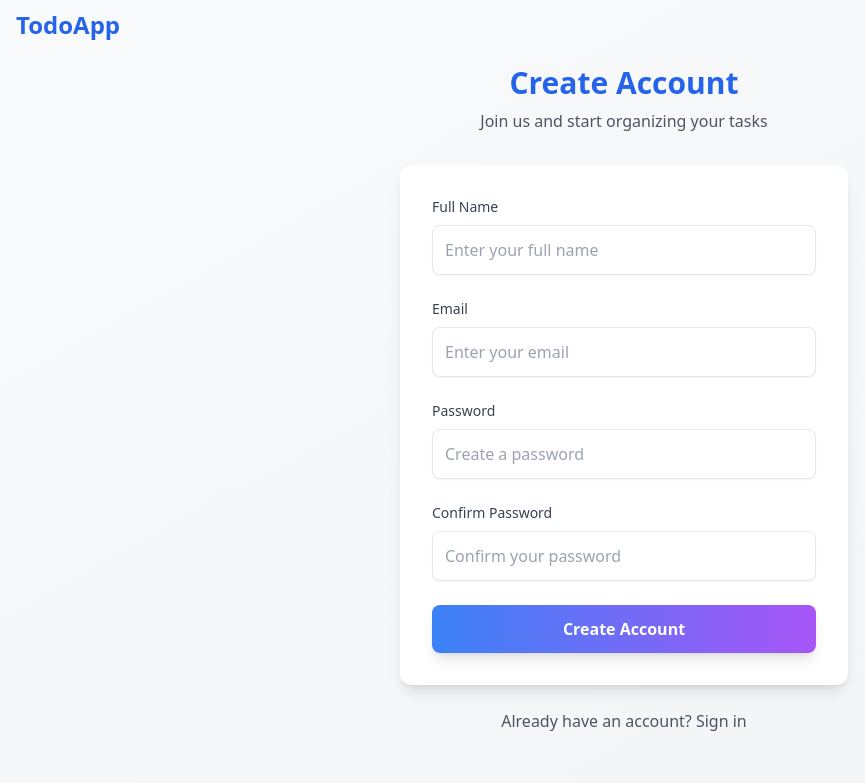
it: SignUpPage › handles signup error
The image size is (865, 783).
In the field labelled "Full Name": (624,250) [432,225,816,275], type "Test User"
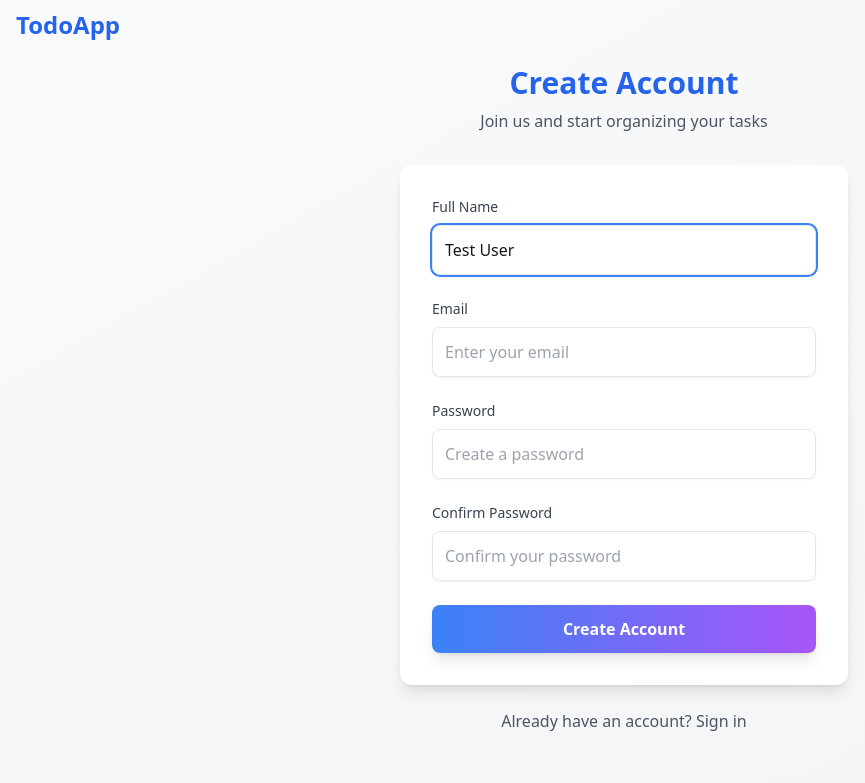
In the field labelled "Email": (624,352) [432,327,816,377], type "test@example.com"
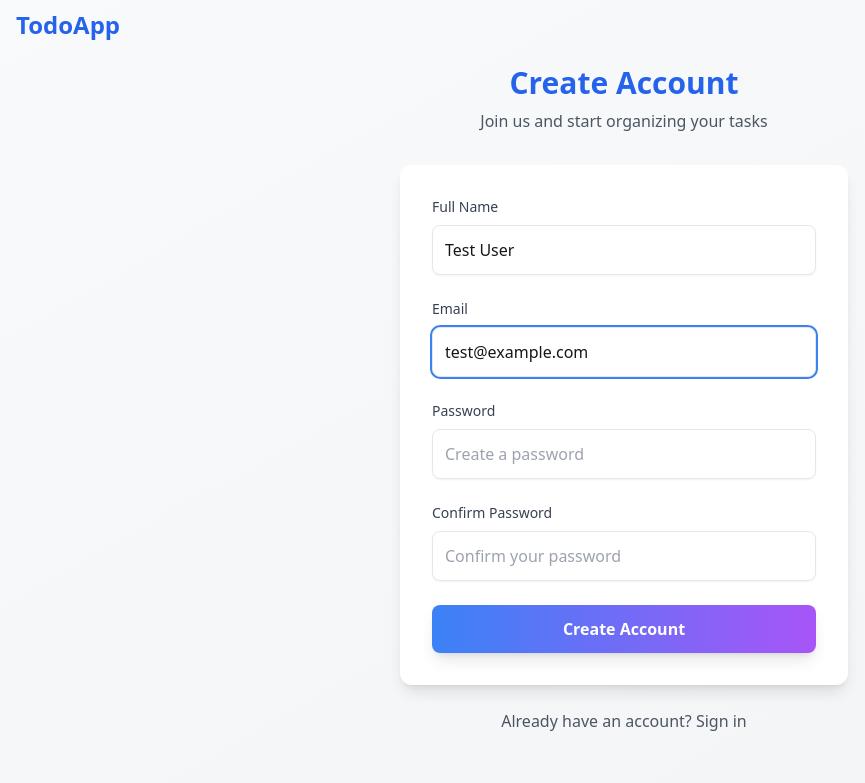
In the password field labelled "Password": (624,454) [432,429,816,479], type "password123"
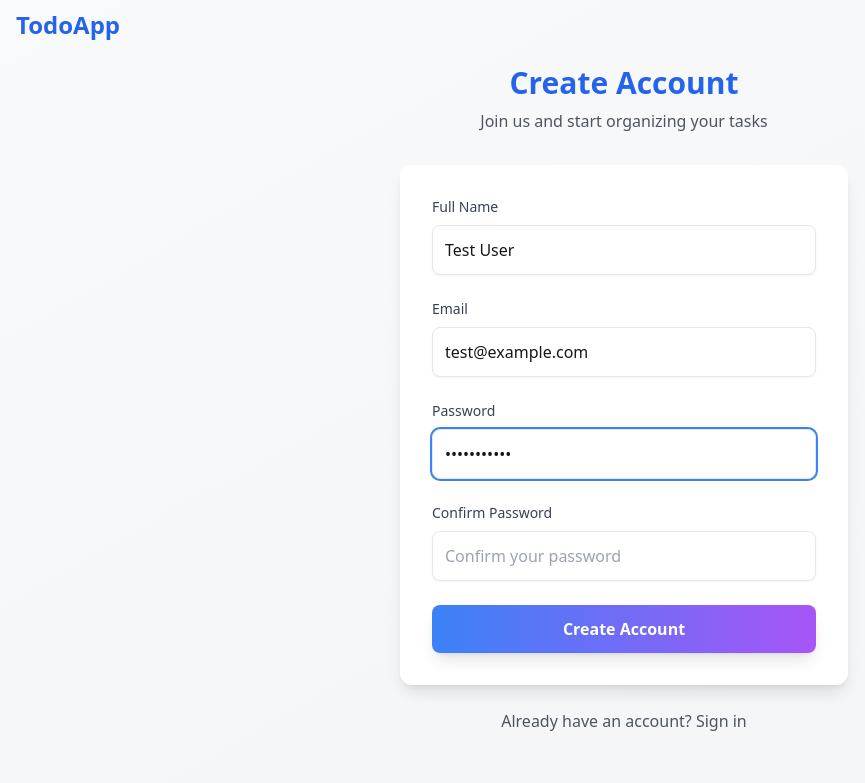
In the password field labelled "Confirm Password": (624,556) [432,531,816,581], type "password123"
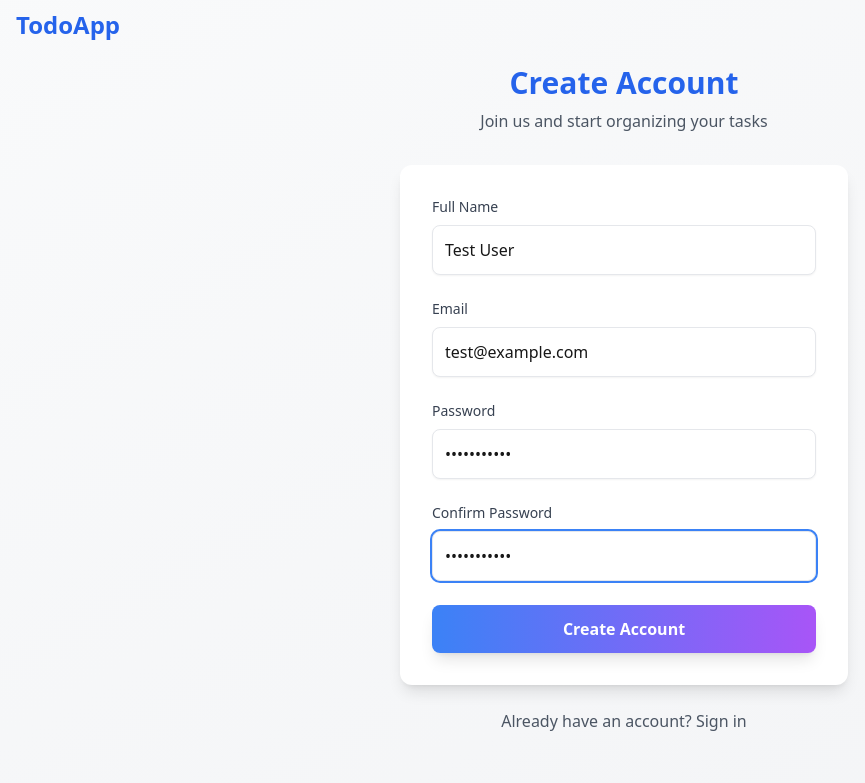
Click the button "Create Account": (624,629) [432,605,816,653]
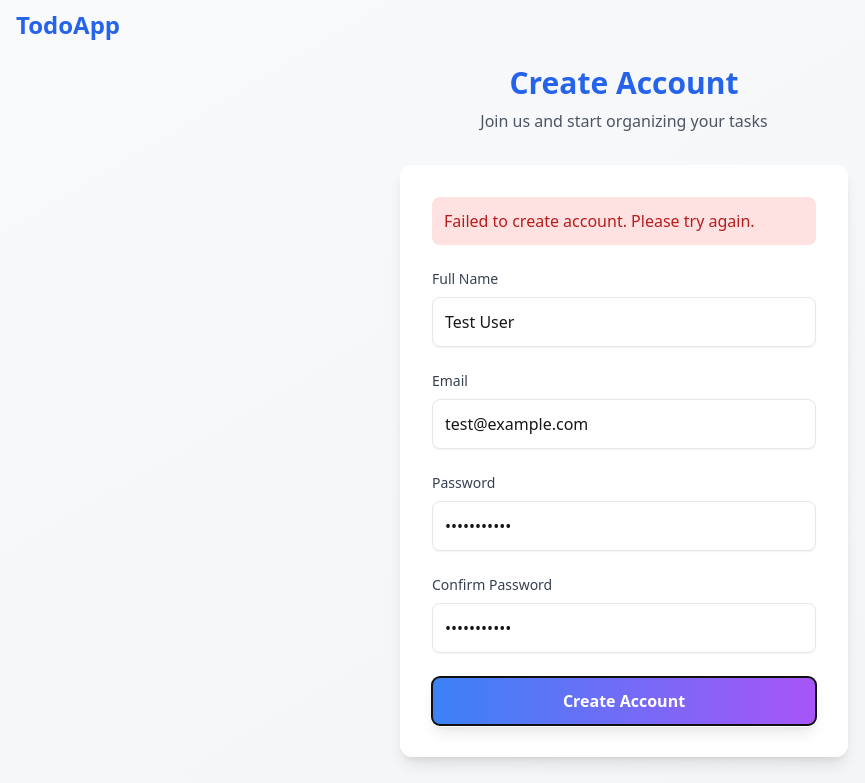
Now the text "Failed to create account. Please try again." is shown, box [432,197,816,245]
